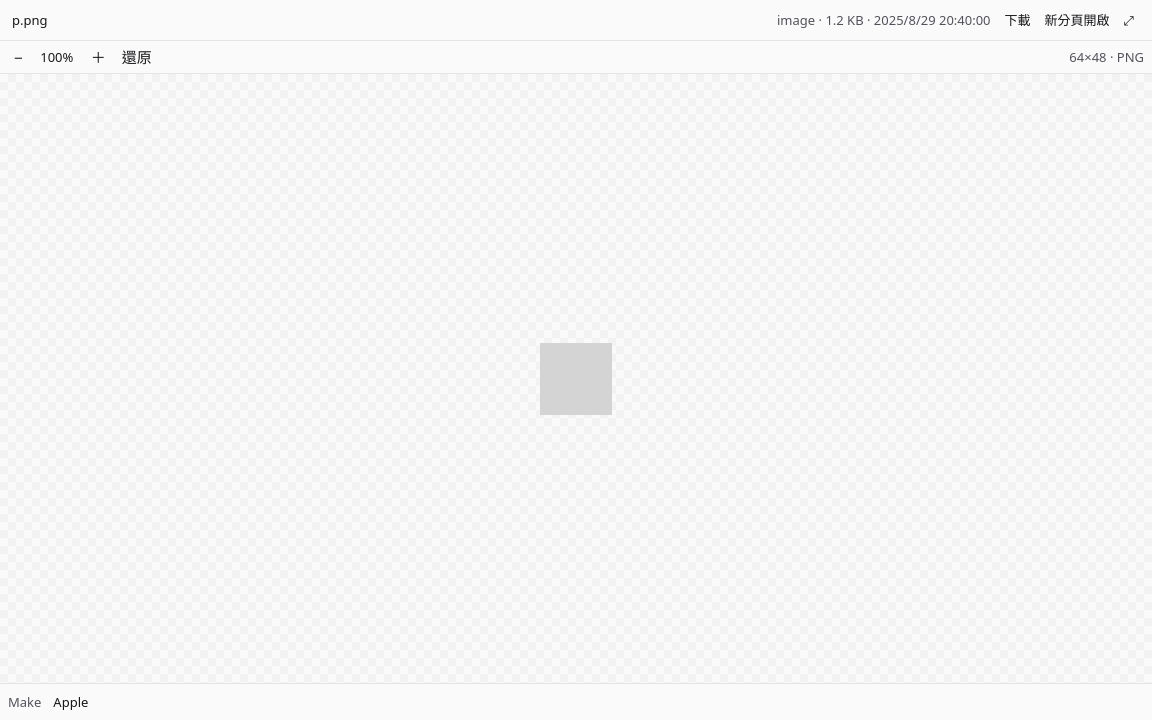
it: FilePreview 各格式 › image：顯示尺寸與縮放控制
This screenshot has width=1152, height=720.
What coordinates should you click on to do the following:
click the button named "放大"
I would click on:
 (98, 57)
Its box is [85,45,112,69].
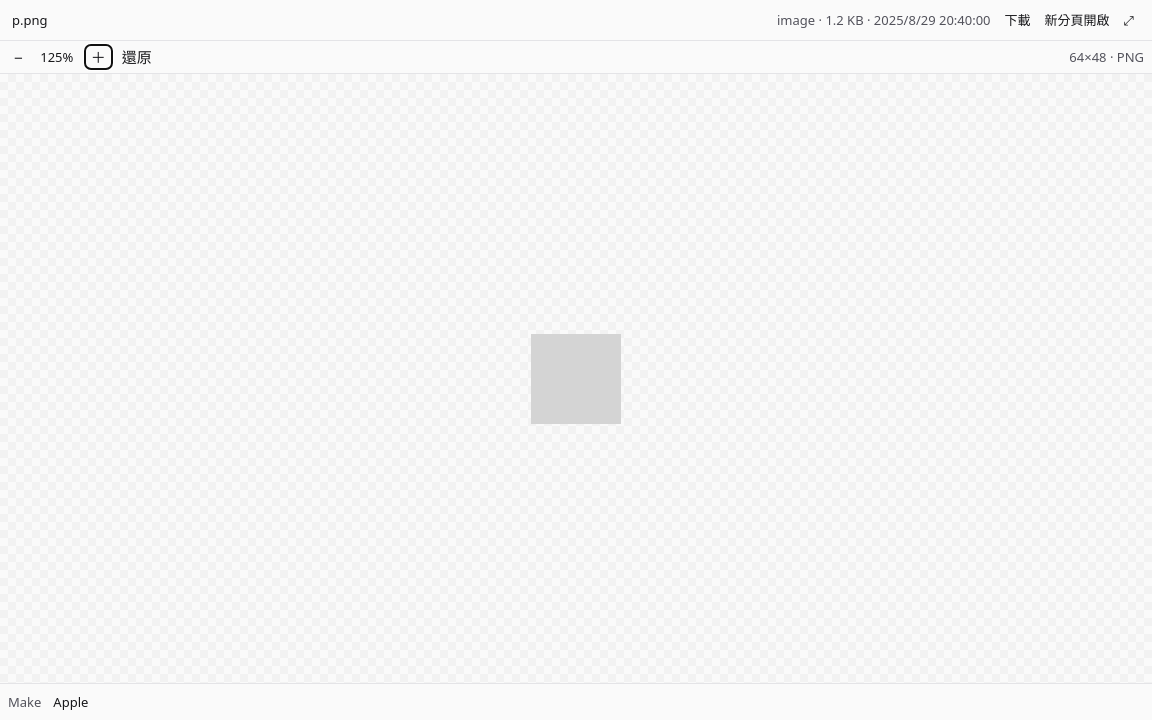
expect the text with test id "image-zoom" reads "125%": met, box [40,48,73,66]
